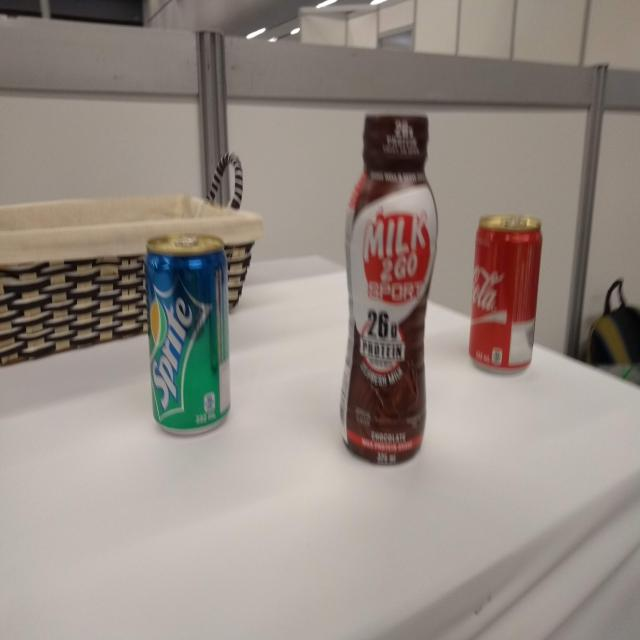chocolate_drink: (334, 107, 442, 470)
coke: (465, 209, 548, 380)
sprite: (142, 231, 240, 441)
